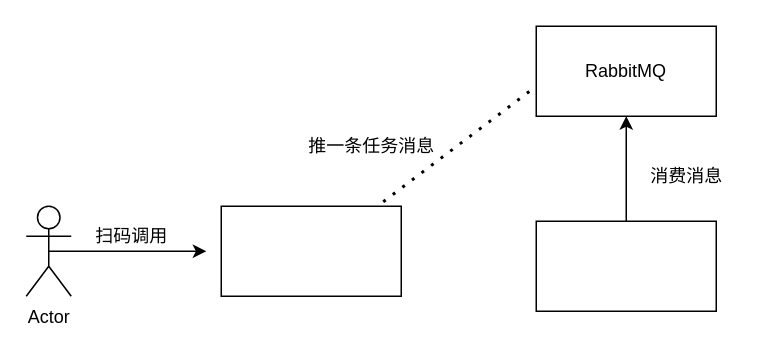
This 758x354 diagram has some shape labels left out. Each missing label, with the centre of its shape:
Flink计算具体费用并落库mysql: (x=625, y=265)
后端Server: (x=310, y=250)
